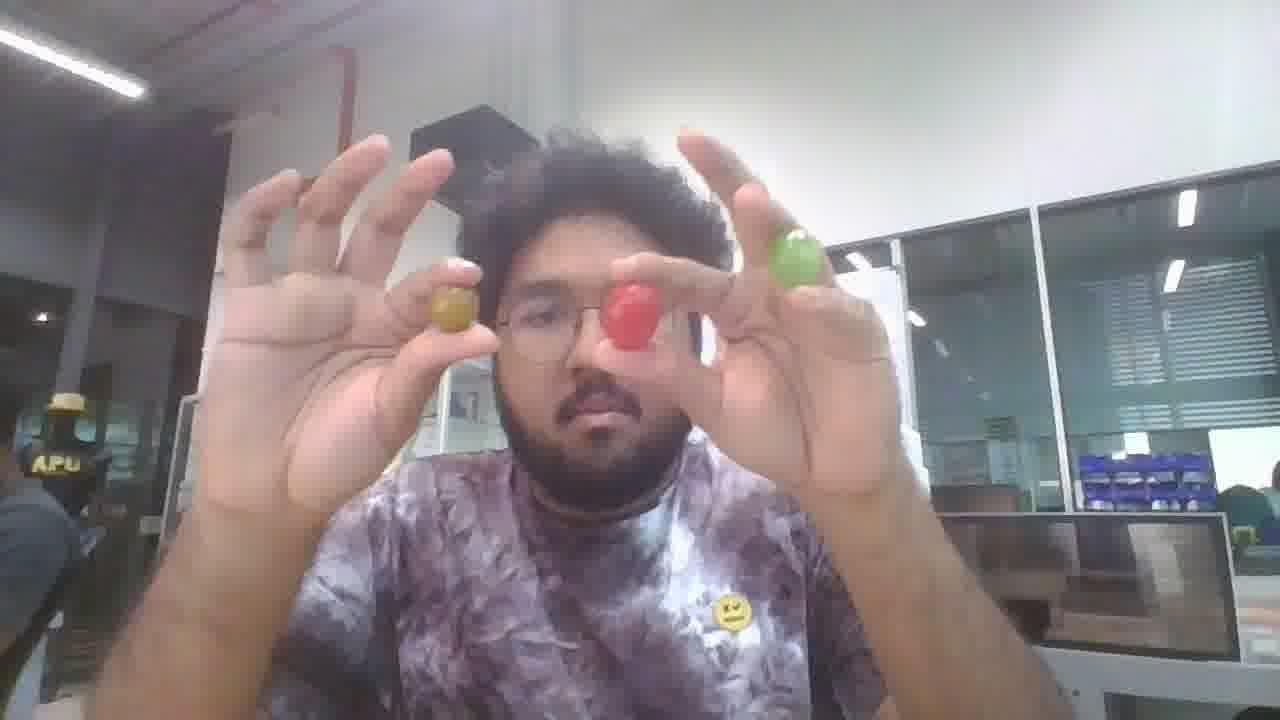green_cherry_tomato: (768, 228, 824, 288)
red_cherry_tomato: (602, 283, 662, 349)
yellow_cherry_tomato: (430, 287, 476, 331)
